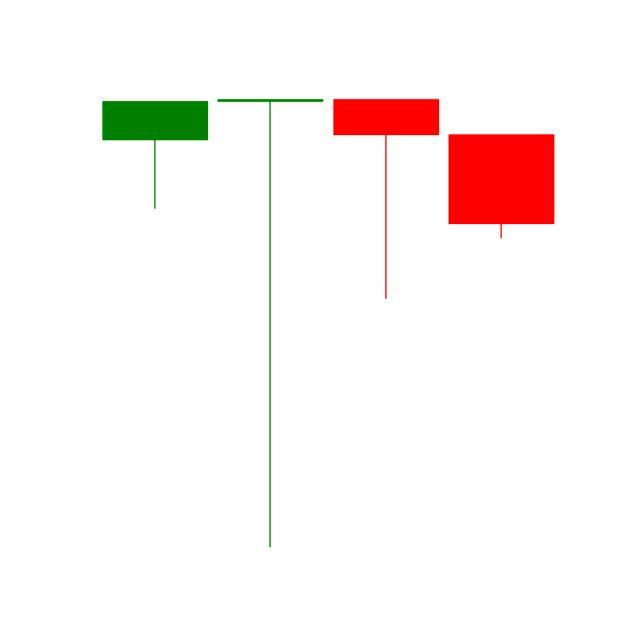Marubozu: (444, 133, 560, 241)
